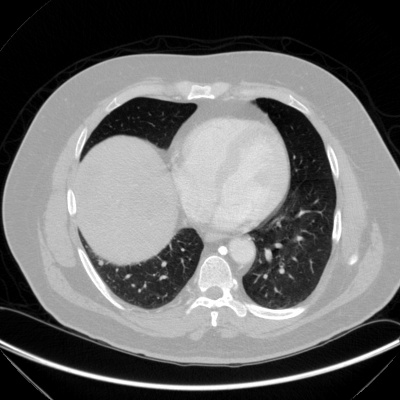PN: (98, 261, 102, 265)
